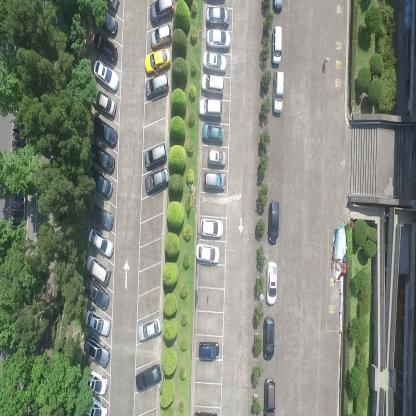car: (82, 276, 109, 312), (84, 333, 110, 370), (134, 361, 163, 394), (88, 142, 116, 175), (90, 115, 118, 148), (90, 87, 117, 121), (92, 58, 119, 92), (92, 30, 118, 65), (86, 167, 113, 200), (88, 228, 115, 260), (86, 254, 111, 288), (86, 202, 114, 232), (144, 45, 171, 75), (83, 366, 109, 397), (136, 315, 163, 343), (144, 72, 169, 102), (92, 10, 119, 36), (144, 167, 169, 195), (143, 141, 167, 170), (85, 309, 110, 336), (150, 22, 172, 50), (80, 393, 108, 415), (271, 70, 284, 116), (205, 28, 231, 51), (267, 200, 280, 245), (198, 97, 223, 120), (195, 242, 220, 265), (149, 0, 174, 23), (205, 6, 231, 28), (263, 315, 275, 361), (200, 73, 224, 96), (201, 52, 226, 74), (266, 260, 277, 306), (202, 170, 225, 192), (198, 338, 219, 362), (201, 123, 224, 144), (199, 217, 222, 238), (263, 376, 275, 416), (272, 24, 282, 66), (207, 147, 226, 168)
